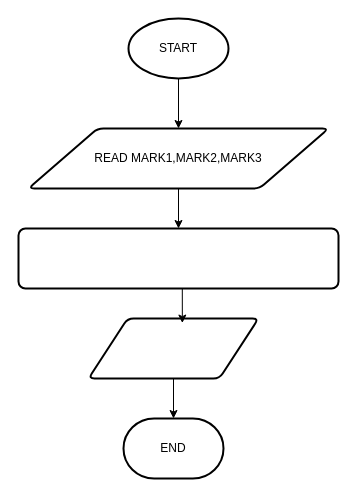
The diagram is 356 pixels wide and 496 high, and some of its shapes have lost their labels. Here are the shapes that lost their labels. From the top down, the centre of each, then its label:
point (178, 258): AVERAGE = (MARK 1 + MARK 2 + MARK 3) / 3
point (173, 348): PRINT AVERAGE
